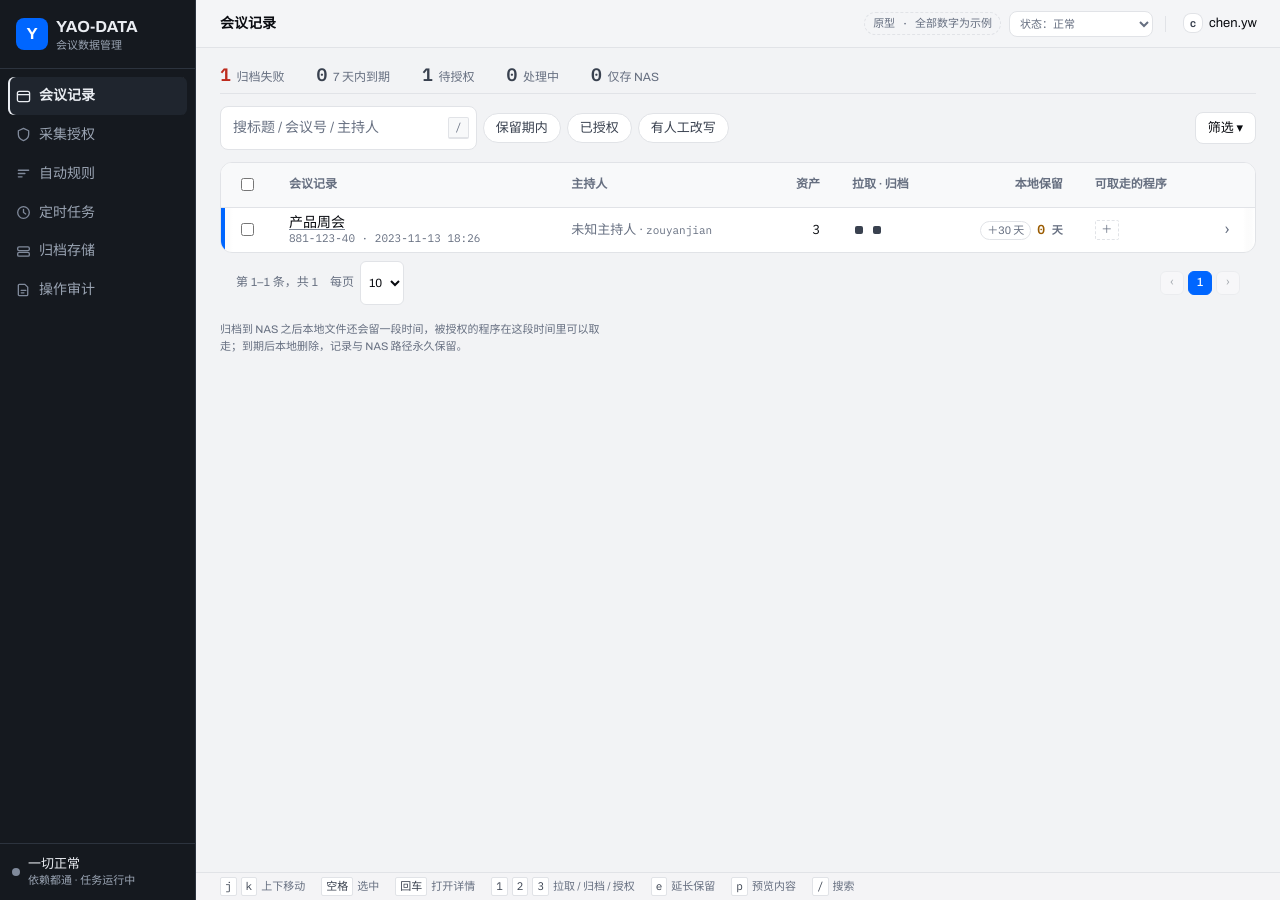
Test: AppShell · 顶栏 › 系统状态下拉能切到六种形态
expect the text with test id "triage-count-archfail" reads "1": met, box [220,63,230,86]
Note: loading：内容区给出加载中提示，不是空白
Select "状态：加载中" in the dropdown named "系统状态" at (1081, 24), box [1009,10,1153,36]
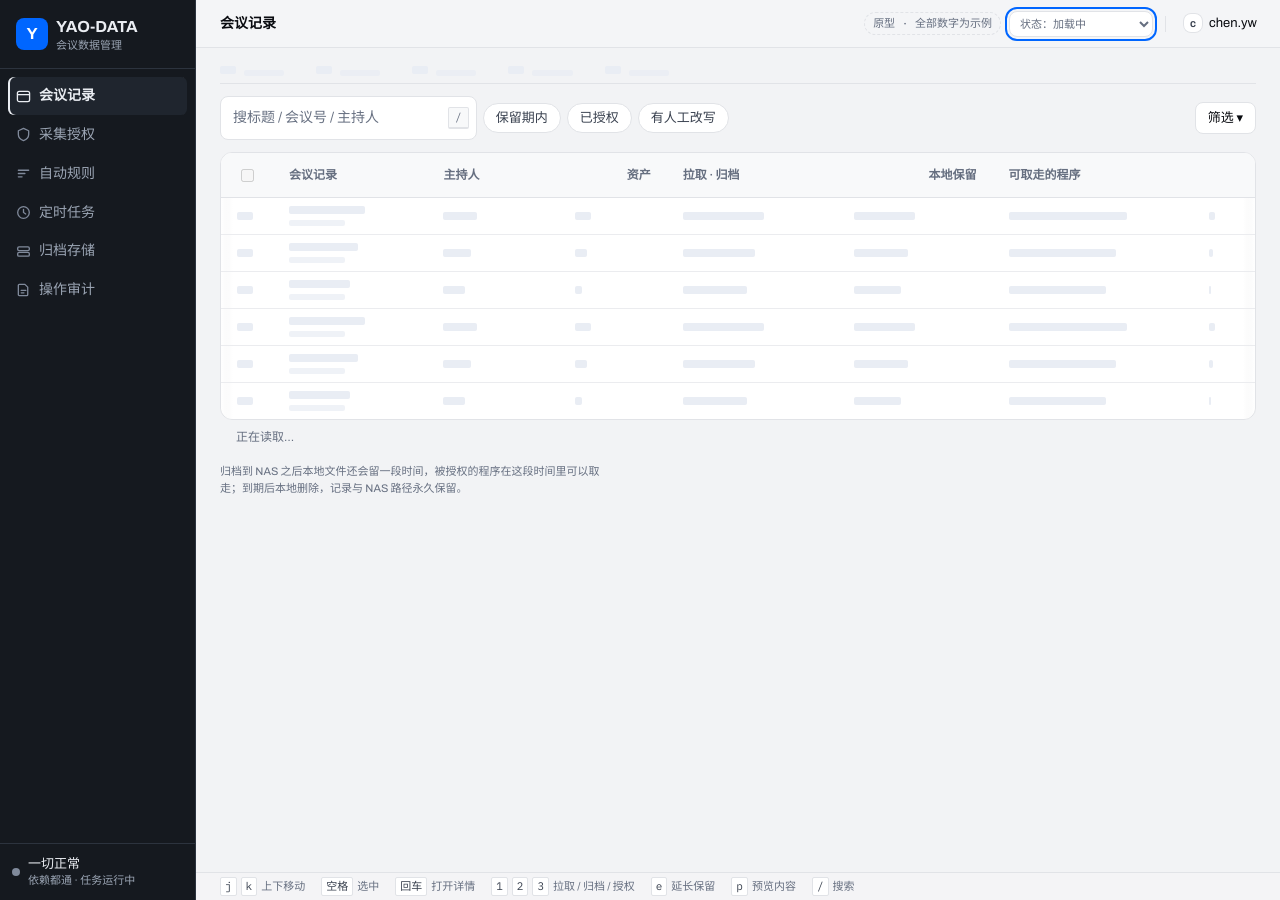
expect the text with test id "meetings-loading" shows "正在读取": met, box [236,430,294,444]
Note: load-failed：错误详情 + 重试，不是「暂无数据」
Select "状态：加载失败" in the dropdown named "系统状态" at (1081, 24), box [1009,10,1153,36]
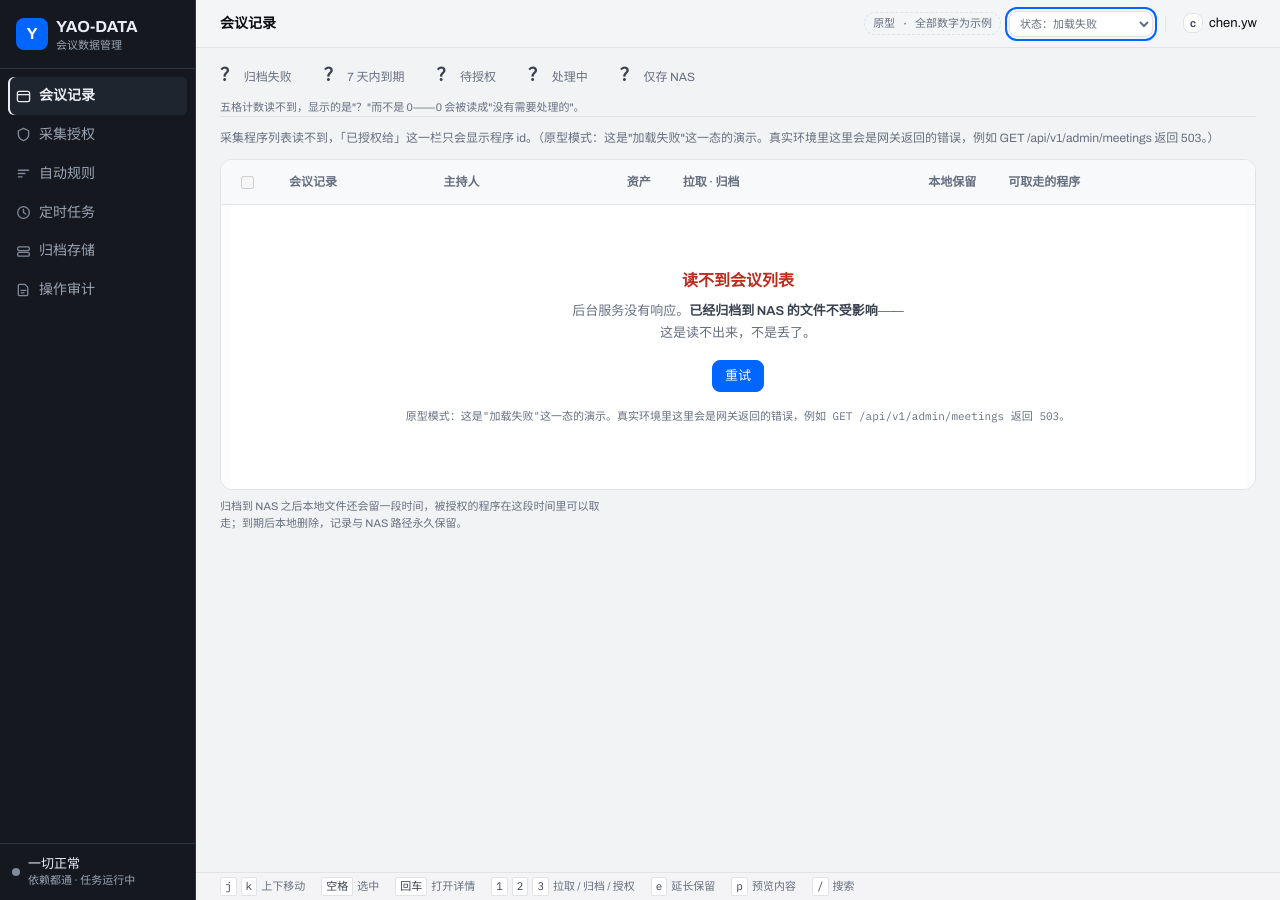
expect the button "重试" is shown: met, box [712,360,764,392]
Note: empty：一场会议都没有，出口文案存在
Select "状态：一场会议都没有" in the dropdown named "系统状态" at (1081, 24), box [1009,10,1153,36]
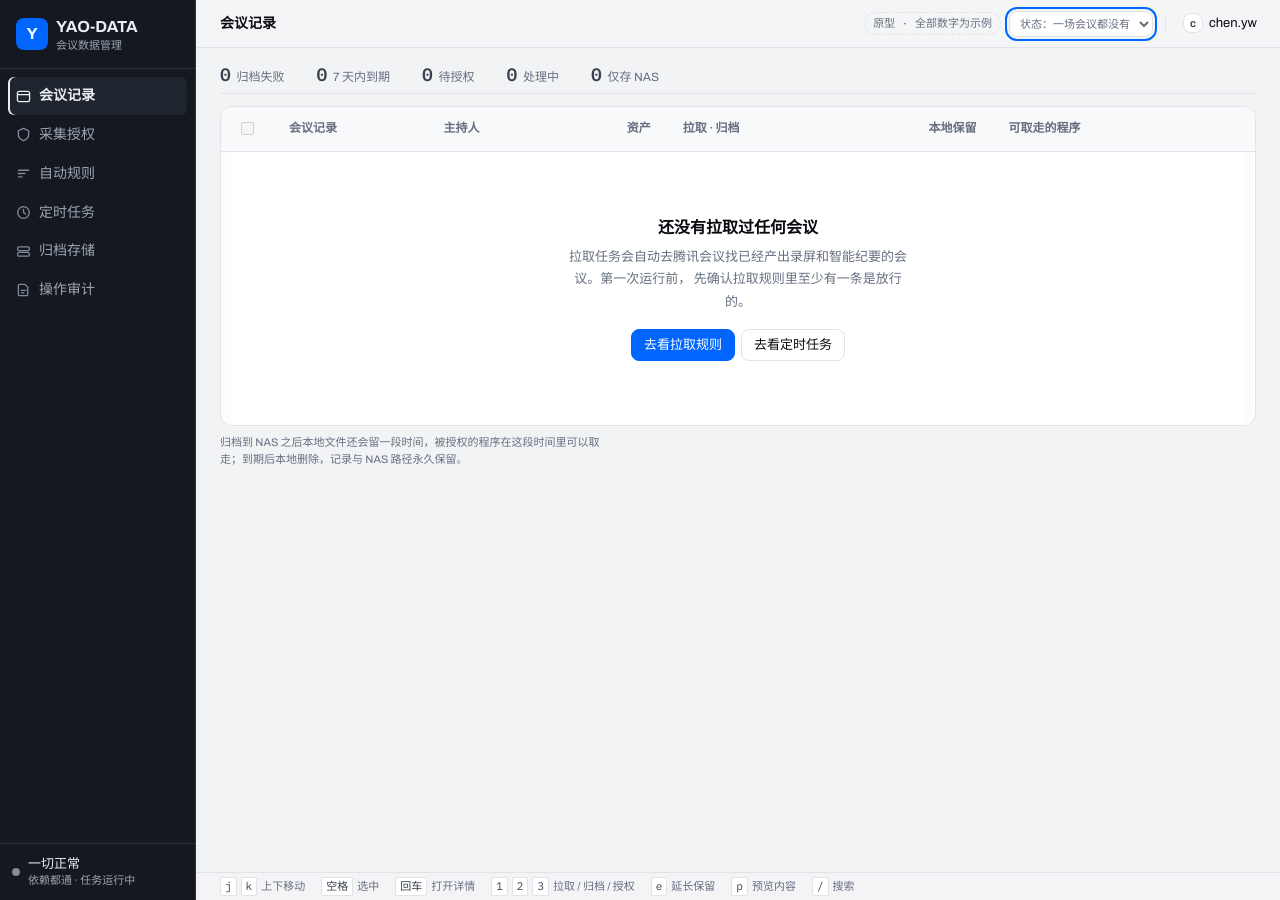
expect the element with test id "meetings-empty" shows "还没有拉取过任何会议": met, box [658,219,818,236]
Select "状态：NAS 断连" in the dropdown named "系统状态" at (1081, 24), box [1009,10,1153,36]
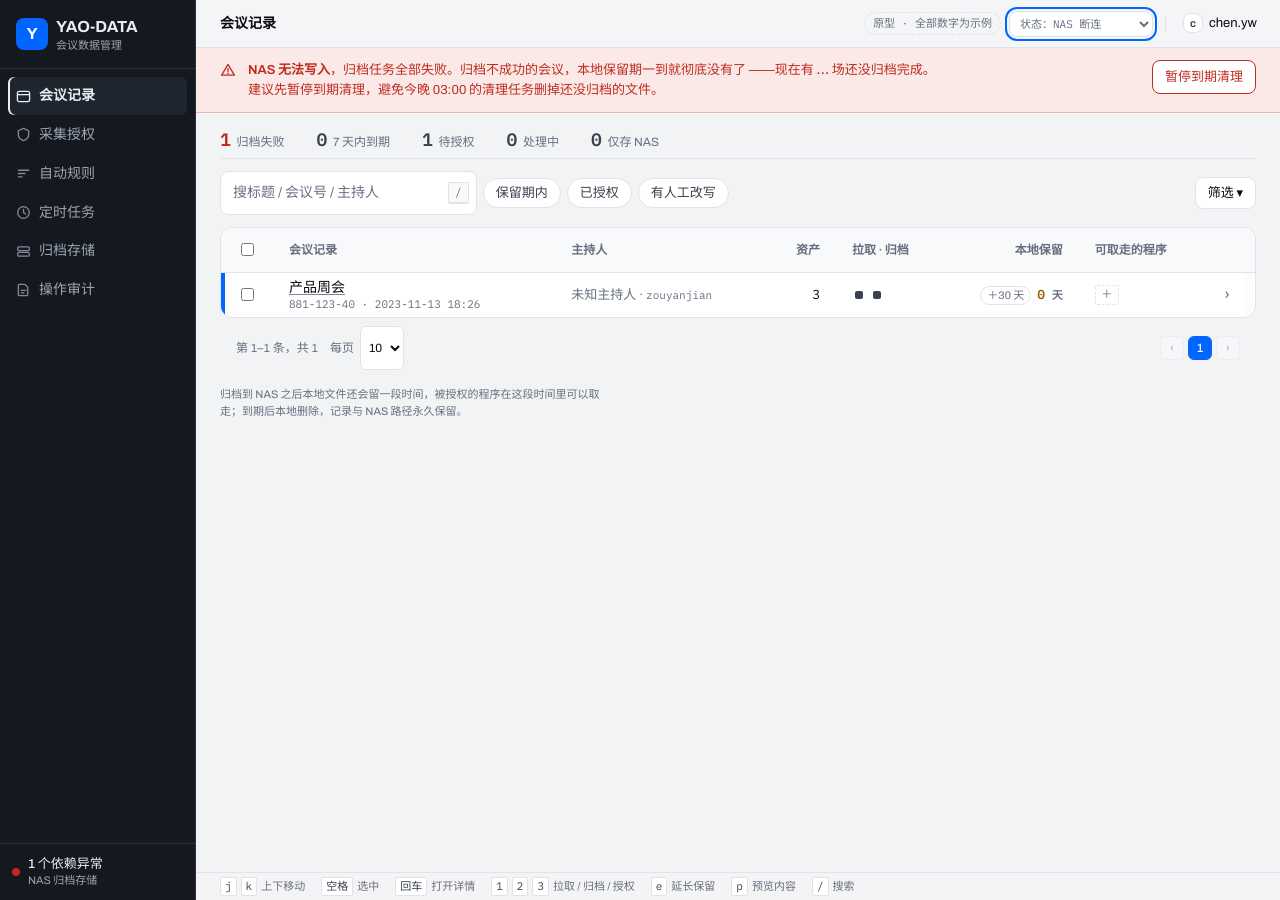
expect the message is shown: met, box [196,48,1279,113]
expect the link "暂停到期清理" is shown: met, box [1152,60,1256,94]
Select "状态：腾讯会议不可达" in the dropdown named "系统状态" at (1081, 24), box [1009,10,1153,36]
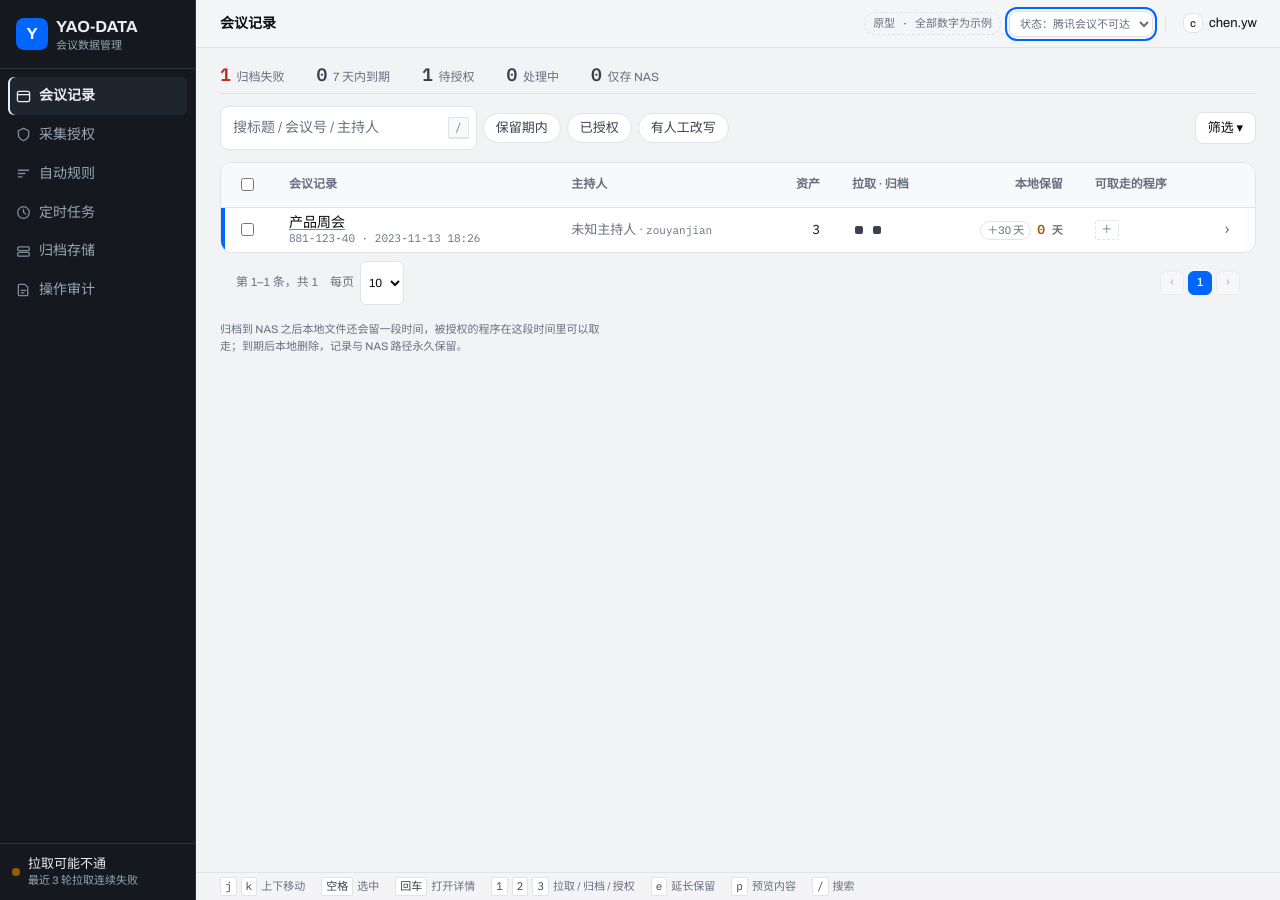
expect the text "拉取连续失败" is shown: met, box [28,874,138,886]
expect the message is gone: met
Note: 切回正常，左栏摘要也不再说这件事
Select "状态：正常" in the dropdown named "系统状态" at (1081, 24), box [1009,10,1153,36]
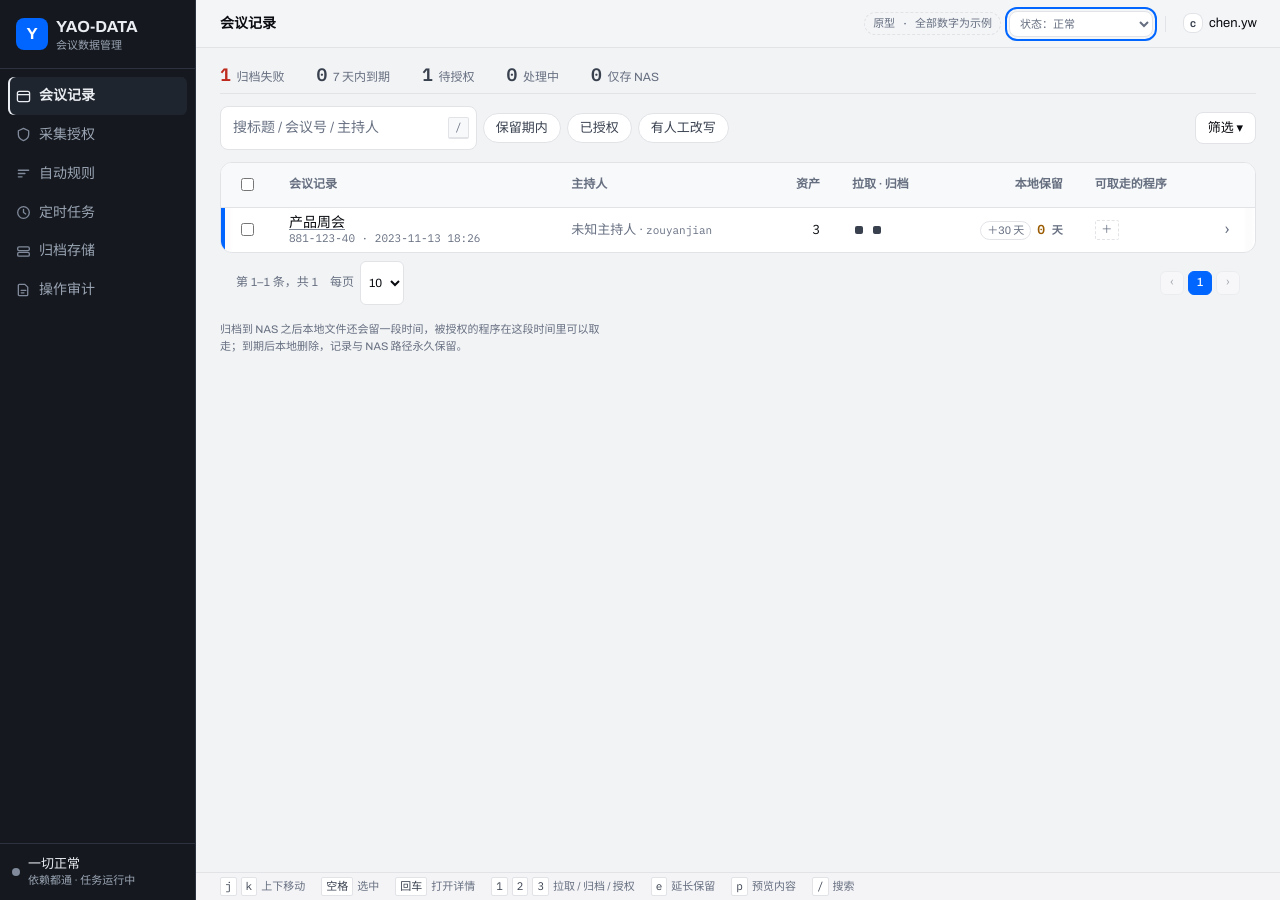
expect the text "拉取连续失败" is gone: met
